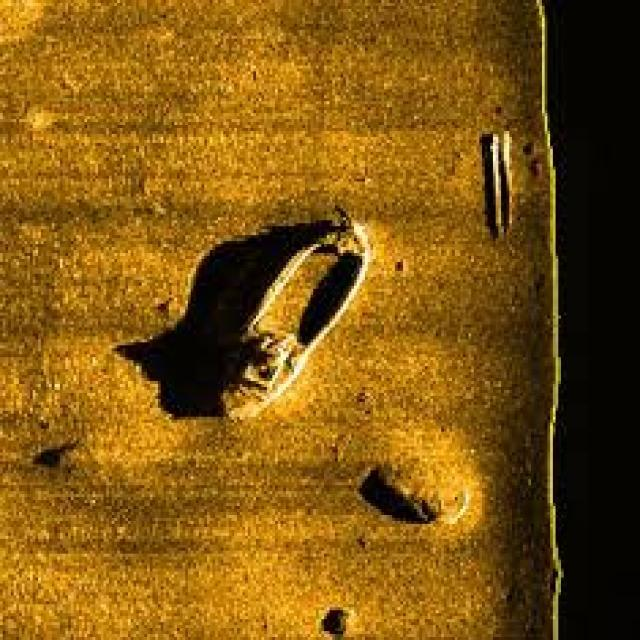shipwreck: (220, 208, 362, 417)
